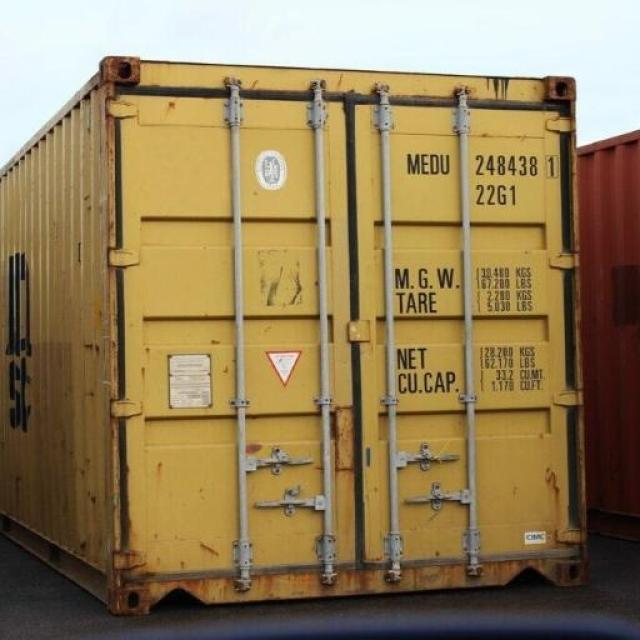ISO: (475, 184, 520, 208)
container_number: (410, 152, 556, 178)
